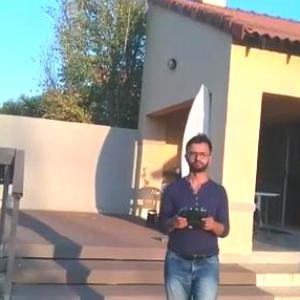follow: (153, 128, 231, 299)
